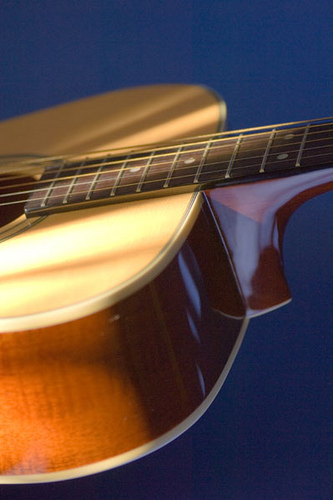guitar: (1, 84, 332, 485)
